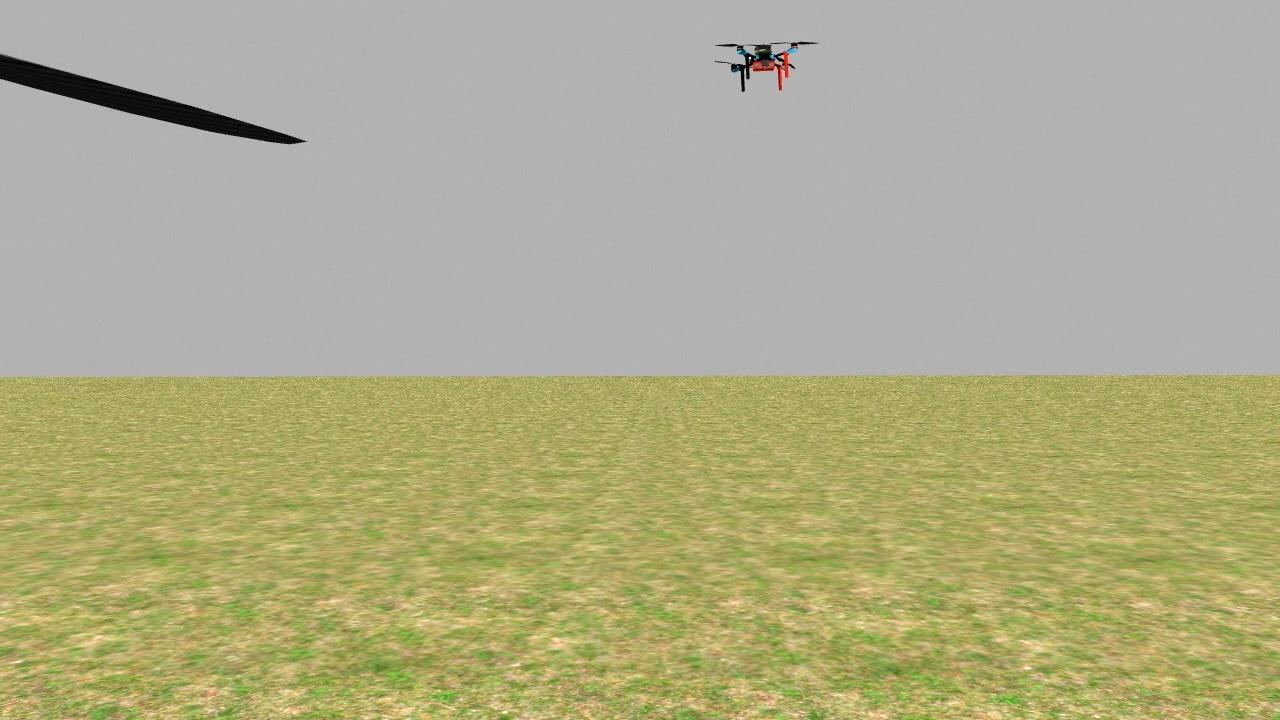UAV: (706, 31, 812, 100)
